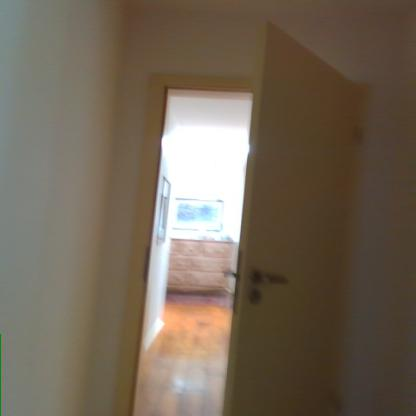semi: (118, 47, 366, 416)
